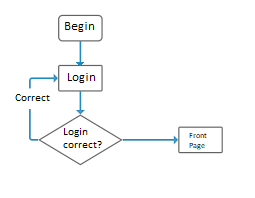arrow: (28, 73, 57, 143), (122, 135, 179, 145), (75, 91, 86, 116), (75, 40, 85, 66)
process: (38, 114, 123, 166), (56, 14, 104, 43), (57, 64, 104, 93), (177, 126, 224, 155)
text: (61, 127, 103, 152), (63, 20, 96, 32), (188, 131, 208, 150), (14, 92, 51, 102), (66, 72, 96, 84)
